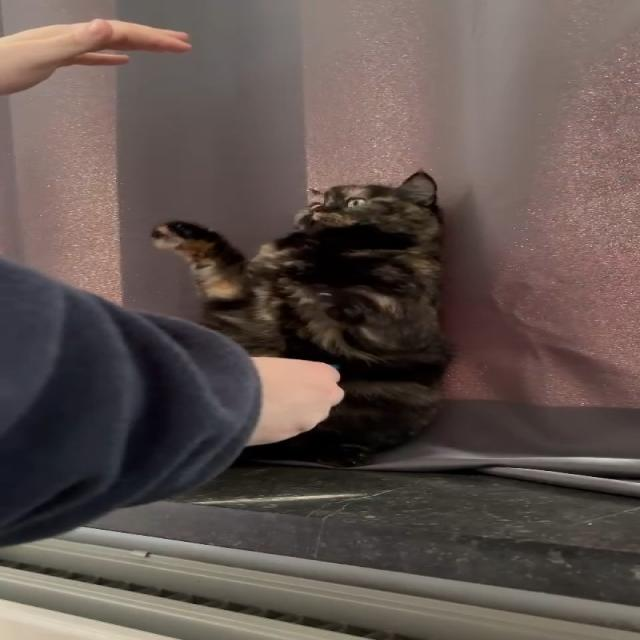authorized: (148, 169, 456, 468)
